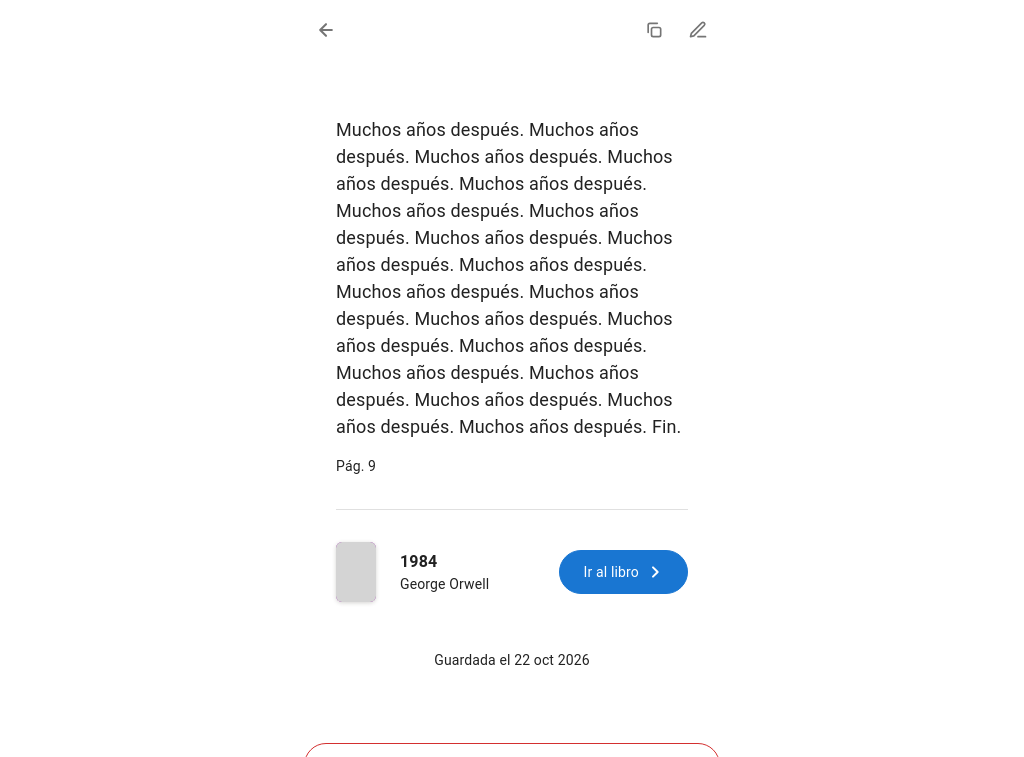
Test case: Given the quote detail page › When the user copies the quote › Then the text goes to the clipboard and a notice is shown
The image size is (1024, 757).
Click the button named "Copiar cita".
click(654, 30)  # box [632,8,676,52]
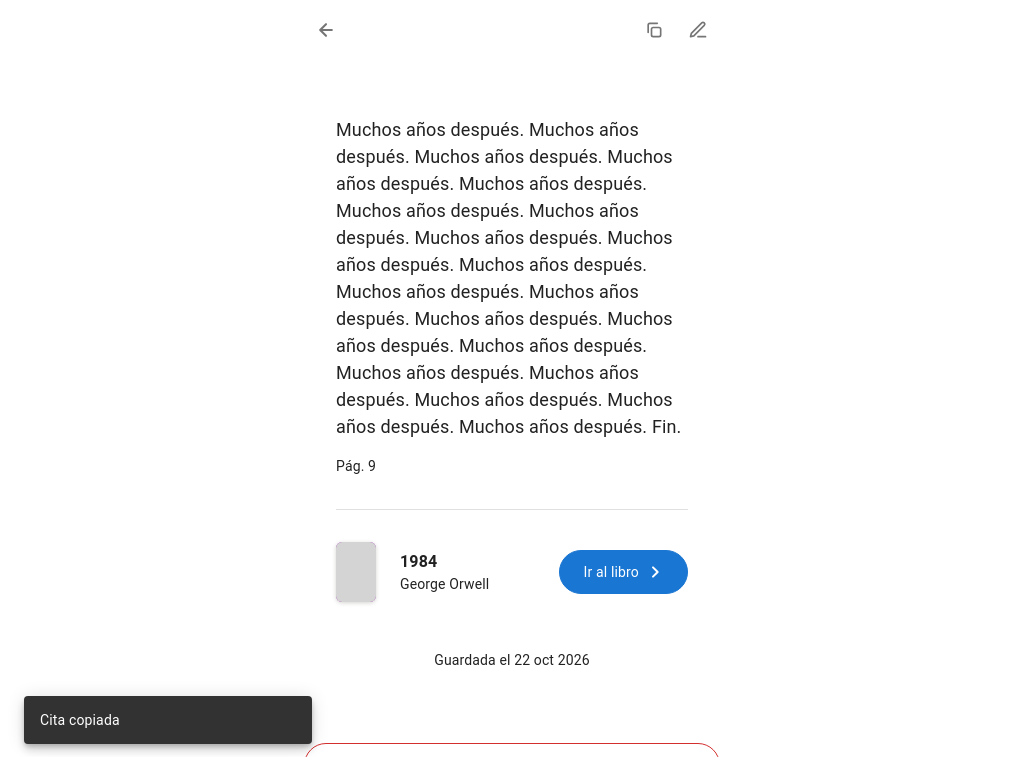
Result: the text "Cita copiada" is shown at [40,712,120,728]
